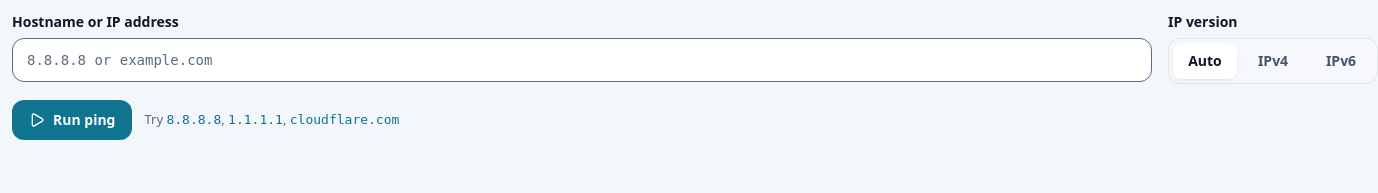
Test: DiagnosticForm › blocks empty submissions with an accessible error and focuses the field
Click the button "Run ping" at (72, 120), box [12,100,132,140]
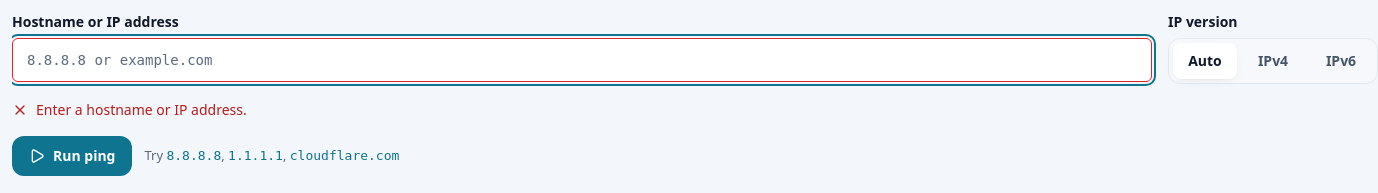
Result: the text "Enter a hostname or IP address." is shown at [36,100,247,120]
